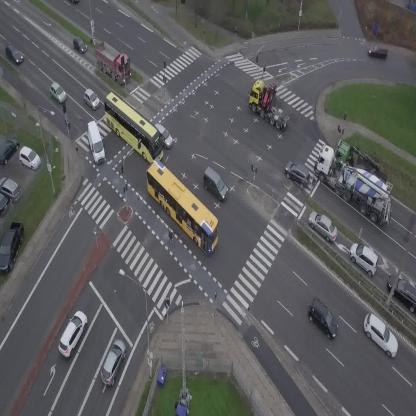bicycle: (165, 229, 174, 247)
bus: (132, 158, 232, 257), (92, 90, 175, 166)
car: (356, 310, 406, 360), (53, 308, 92, 359), (97, 337, 131, 388), (303, 299, 345, 340), (344, 239, 385, 278), (304, 207, 343, 244), (196, 166, 234, 202), (279, 158, 316, 191), (151, 121, 176, 150), (45, 81, 70, 105), (2, 41, 24, 66), (80, 87, 103, 110), (68, 34, 89, 57), (368, 44, 390, 60)
lorry: (301, 142, 409, 231), (240, 74, 303, 133), (86, 36, 140, 87), (333, 139, 393, 181), (84, 120, 107, 164)
